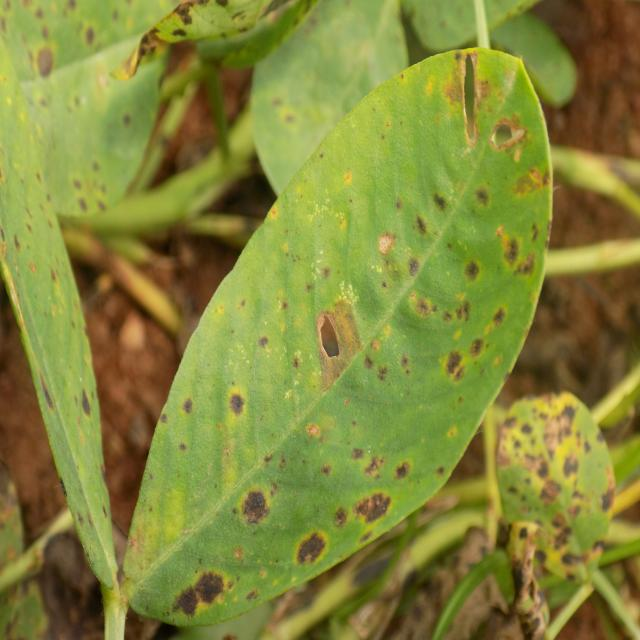Ground nut_tikka leaf spot: (118, 44, 552, 630), (493, 390, 612, 605)
